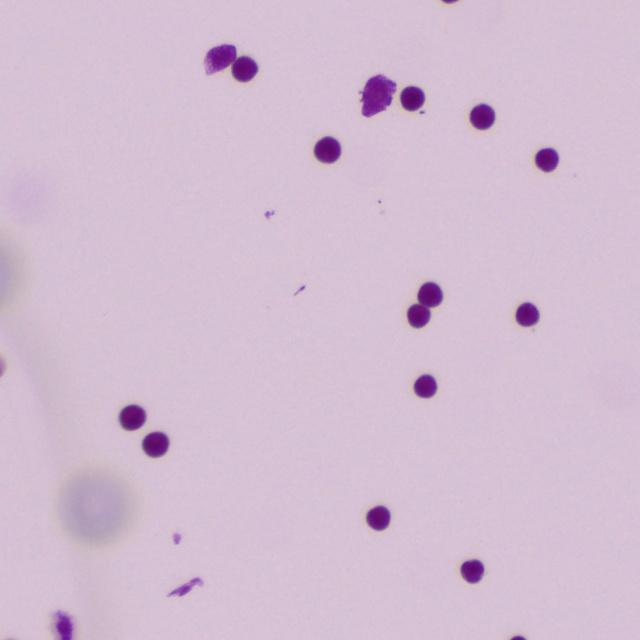viable: (314, 136, 341, 163), (143, 431, 169, 457), (119, 404, 145, 429), (469, 104, 494, 129), (232, 56, 257, 81), (407, 303, 431, 329), (366, 505, 390, 530), (515, 302, 539, 326), (401, 86, 425, 110), (419, 282, 442, 307), (460, 560, 484, 583), (535, 148, 558, 172), (414, 375, 436, 397)
